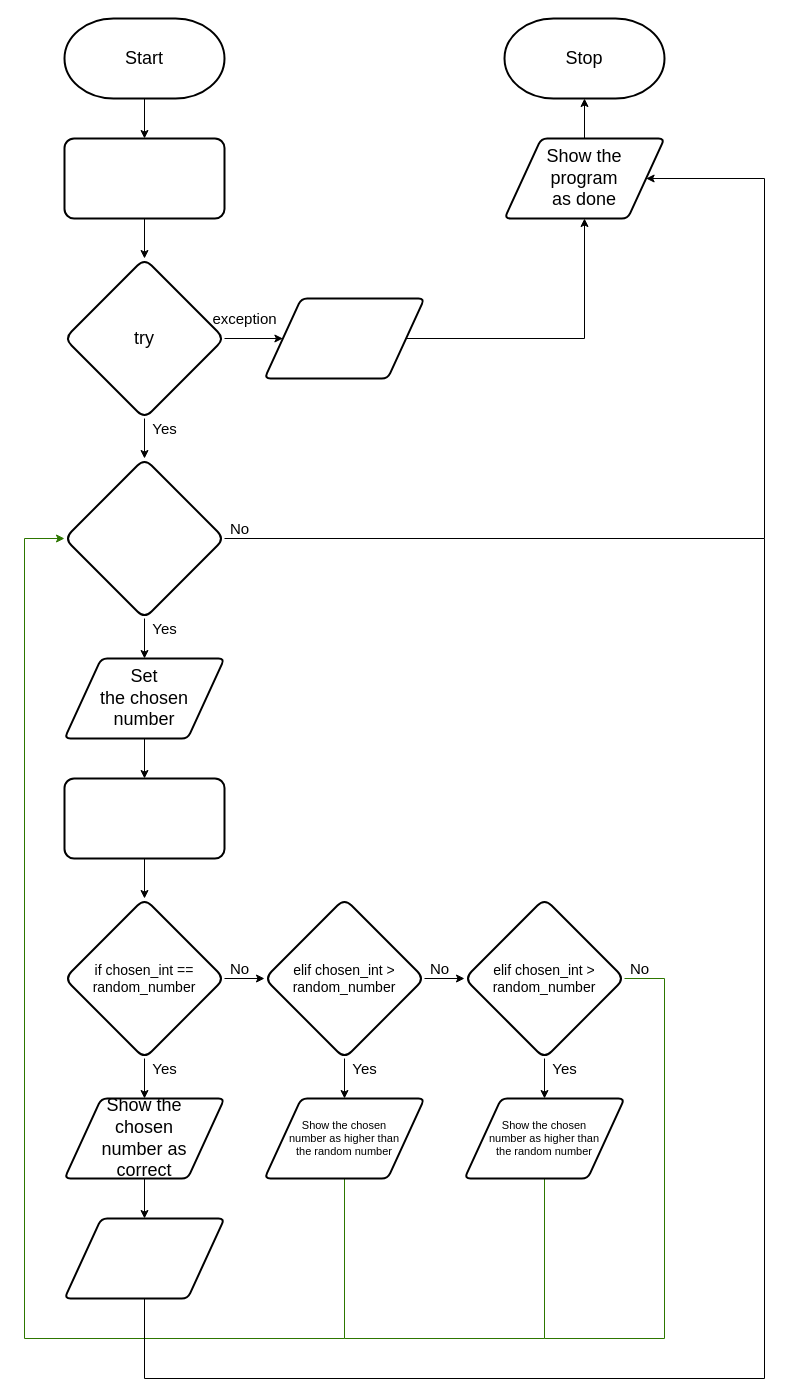
This 790x1397 diagram has some shape labels left out. The shapes that lost their labels are listed below. From the top down, each one's centre as x and y in pixels, then its label:
point 144,178: Calculate a random number
point 344,338: Show the chosen number as not an integer
point 144,538: while True
point 144,818: chosen_int = int(chosen_number)
point 144,1258: Show the hidden number
